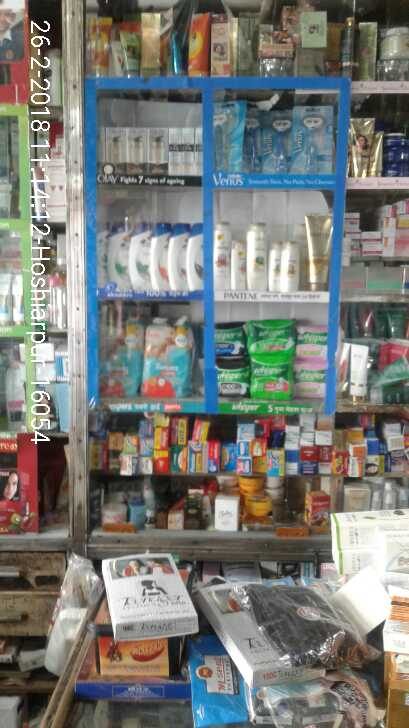venus: (291, 105, 332, 176), (216, 98, 244, 171), (266, 111, 289, 175), (245, 111, 266, 171)
